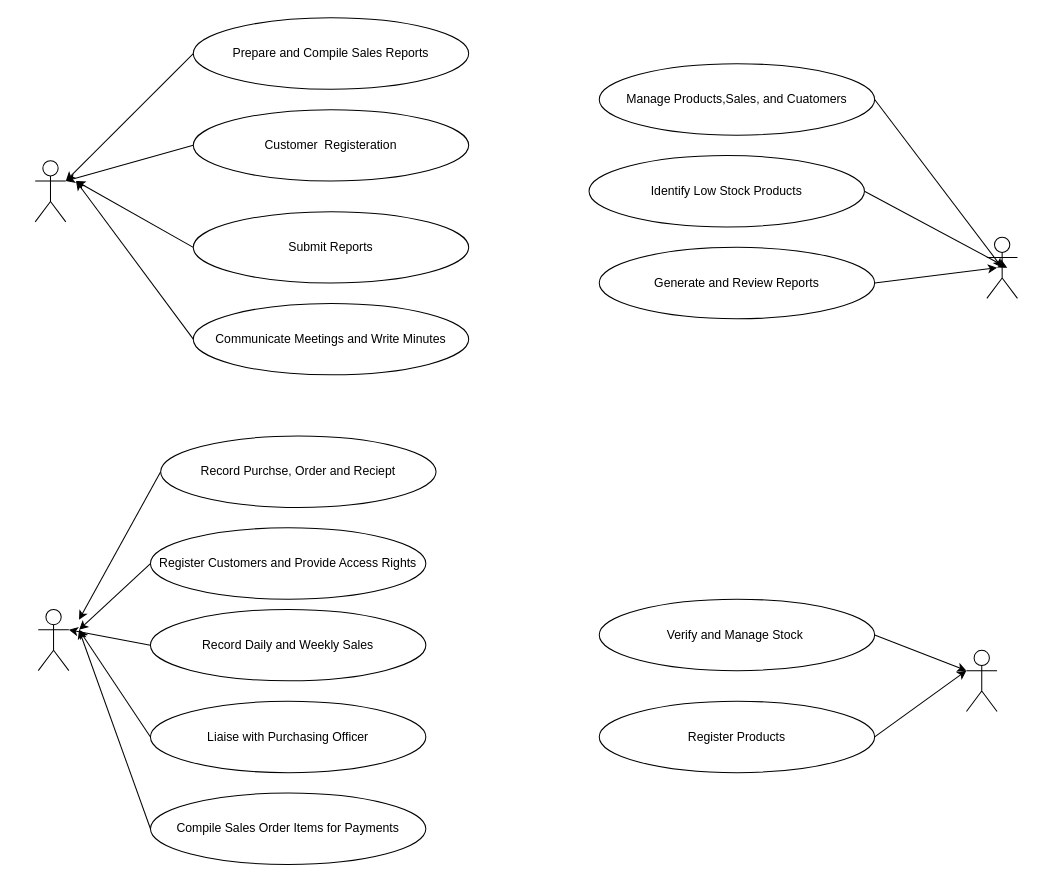
The diagram is 1052 pixels wide and 882 high, and some of its shapes have lost their labels. The centre of each missing label's shape, as x and y in pixels:
"Admin" goes at point 1001,267.
"Sales Person" goes at point 53,639.
"Storeman/Logistics" goes at point 981,680.
"Stuff" goes at point 50,191.
